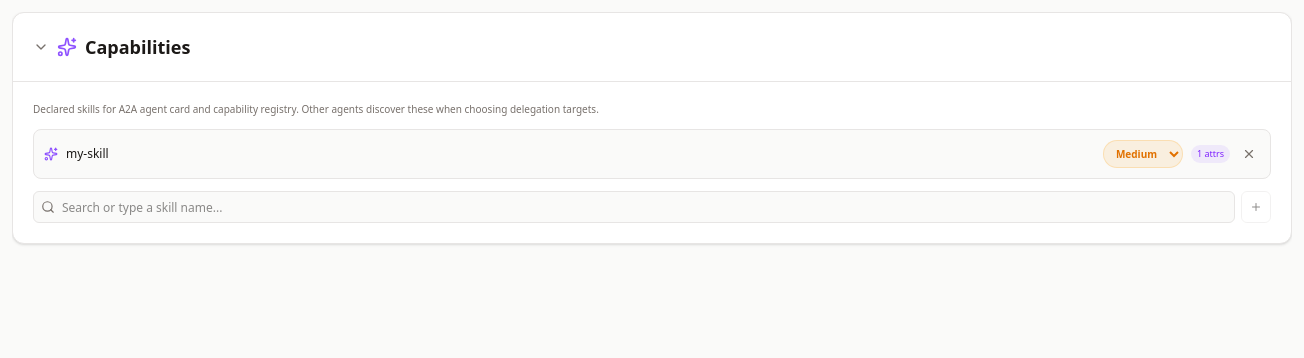
Test: CapabilitiesSection — Editor › displays existing attribute values
The width and height of the screenshot is (1304, 358).
Click the button titled "Toggle attributes" at [51, 154], box [44, 147, 58, 161]
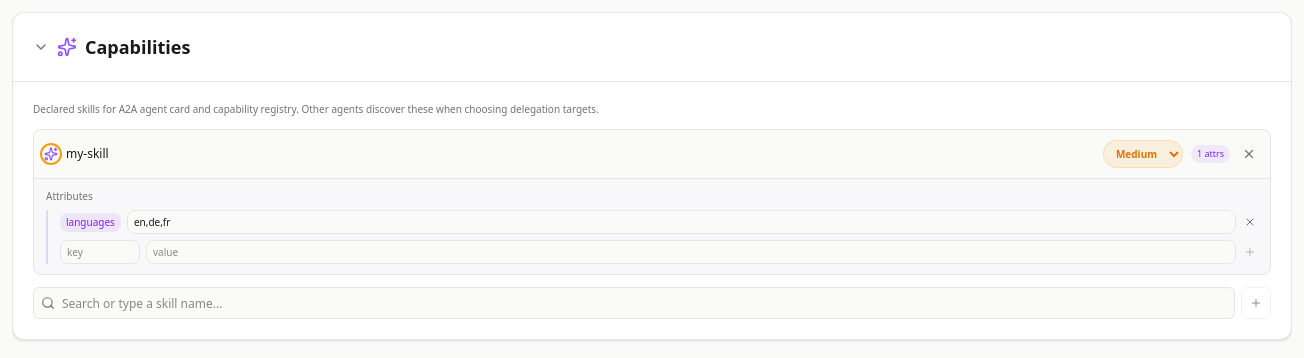
Expected: the text "languages" is shown, [60, 212, 121, 232]
Expected: the field showing "en,de,fr" is shown, [127, 210, 1236, 234]
